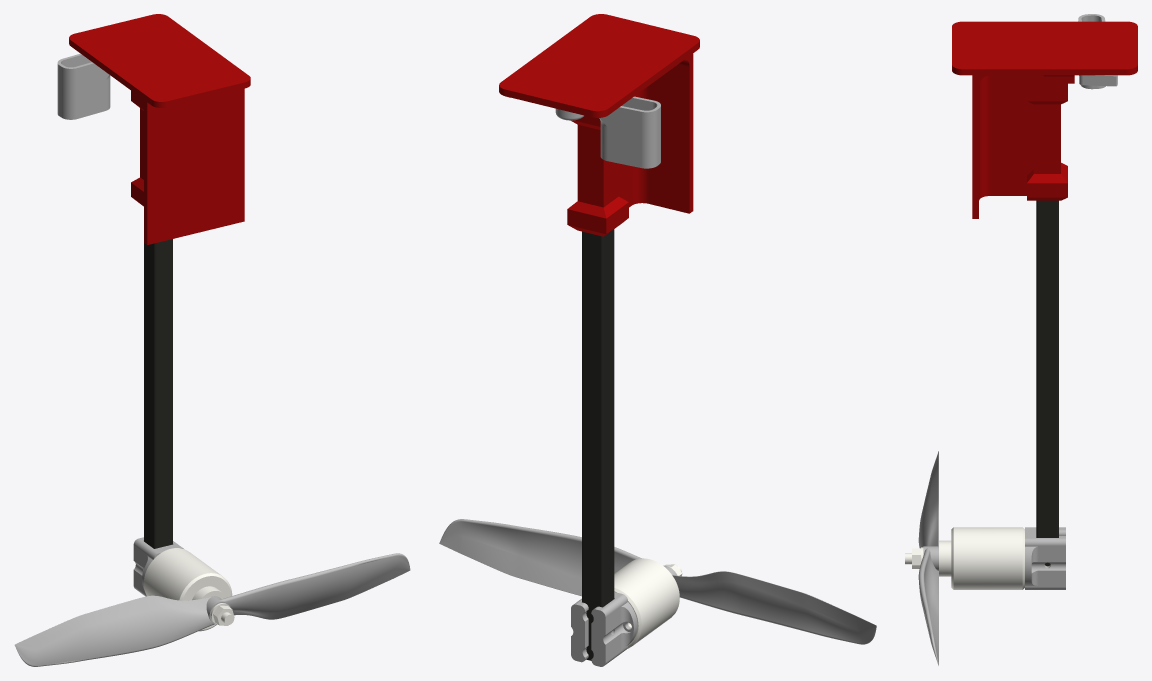
The model's file is drone_small_stp_propulsion module_small.fbx.
The picture shows the model from 3 angles, left to right: view 1: azimuth 30°, elevation 25°; view 2: azimuth 150°, elevation 25°; view 3: azimuth 270°, elevation 25°; orthographic projection. The views are drawn at different scales.
Parts seen in each view (by area): view 1: Body1 (×6), Body2; view 2: Body1 (×6), Body2; view 3: Body1 (×6), Body2.
Boxes of the visible parts, box(x1,y1,x2,y2) form: Body1 (×6): box(14, 14, 250, 666); Body2: box(206, 553, 410, 619); Body1 (×6): box(499, 14, 876, 666); Body2: box(439, 519, 675, 596); Body1 (×6): box(905, 14, 1137, 589); Body2: box(918, 546, 938, 665).
Bounding box in the file's own units: 203 × 264 × 103.
